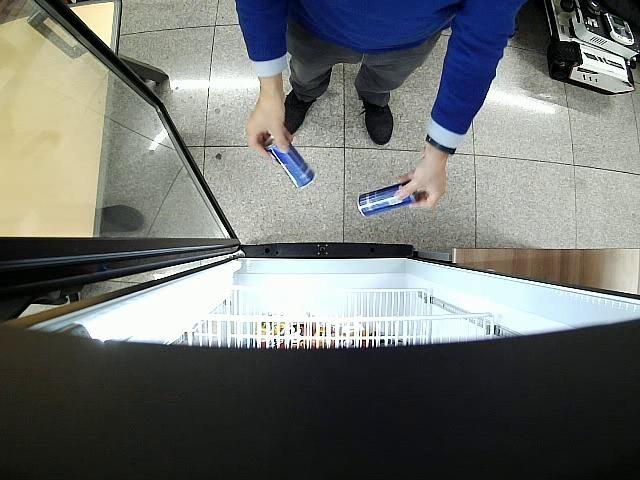16_hot6: (264, 138, 316, 190), (358, 181, 422, 218)
